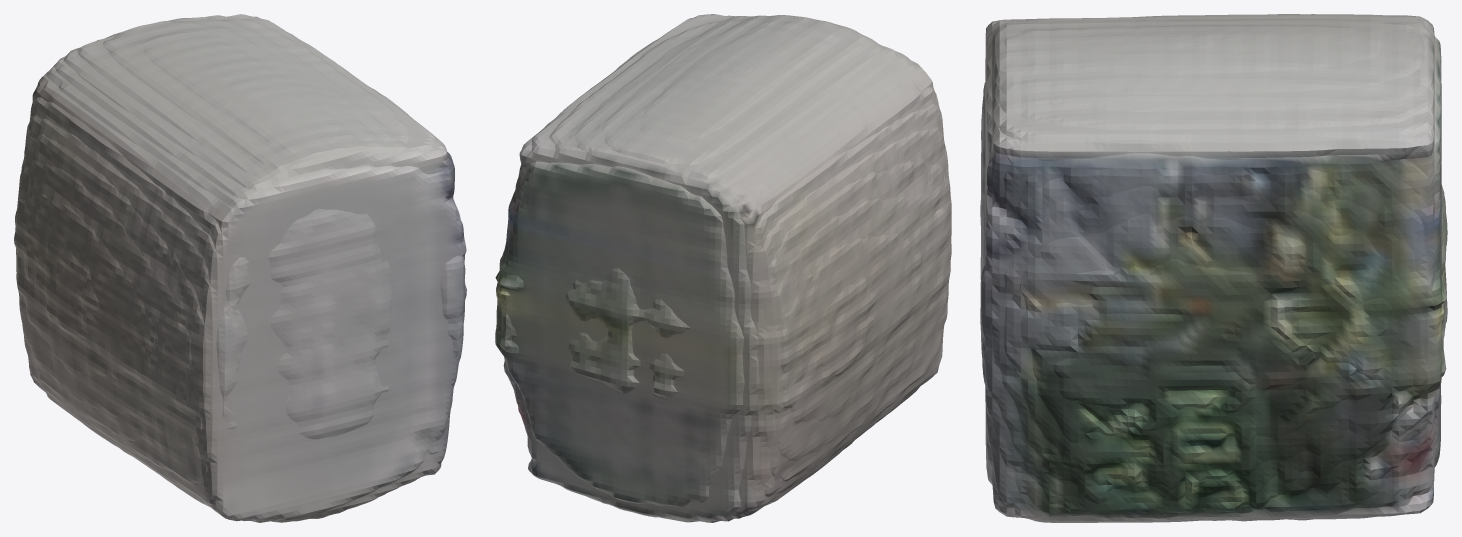
Rendered from child-bot-garden.glb.
3 renders of one model, left to right at view 1: azimuth 30°, elevation 25°; view 2: azimuth 150°, elevation 25°; view 3: azimuth 270°, elevation 25°, orthographic. The views are drawn at different scales.
Visible parts, largest first — view 1: world; view 2: world; view 3: world.
Boxes of the visible parts, left/top/right/bottom form: world: left=14, top=14, right=466, bottom=522; world: left=495, top=14, right=951, bottom=522; world: left=980, top=14, right=1447, bottom=522.
Bounding box in the file's own units: 0.7736 × 0.9265 × 0.8976.
